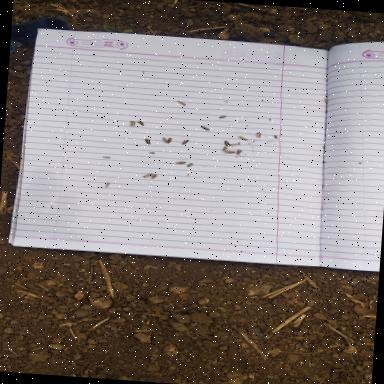pbw: (179, 136, 189, 145), (174, 100, 186, 106), (234, 135, 246, 140), (128, 120, 136, 127), (255, 131, 263, 138), (142, 173, 153, 178), (136, 120, 145, 126), (200, 125, 210, 130), (174, 160, 186, 164), (160, 137, 168, 143), (224, 150, 235, 154), (224, 140, 230, 146), (144, 138, 150, 144), (186, 161, 192, 167), (219, 115, 226, 119), (322, 98, 327, 103), (166, 137, 170, 143), (236, 148, 240, 154), (150, 174, 156, 178), (104, 182, 110, 186), (100, 156, 110, 158), (222, 146, 226, 150)
